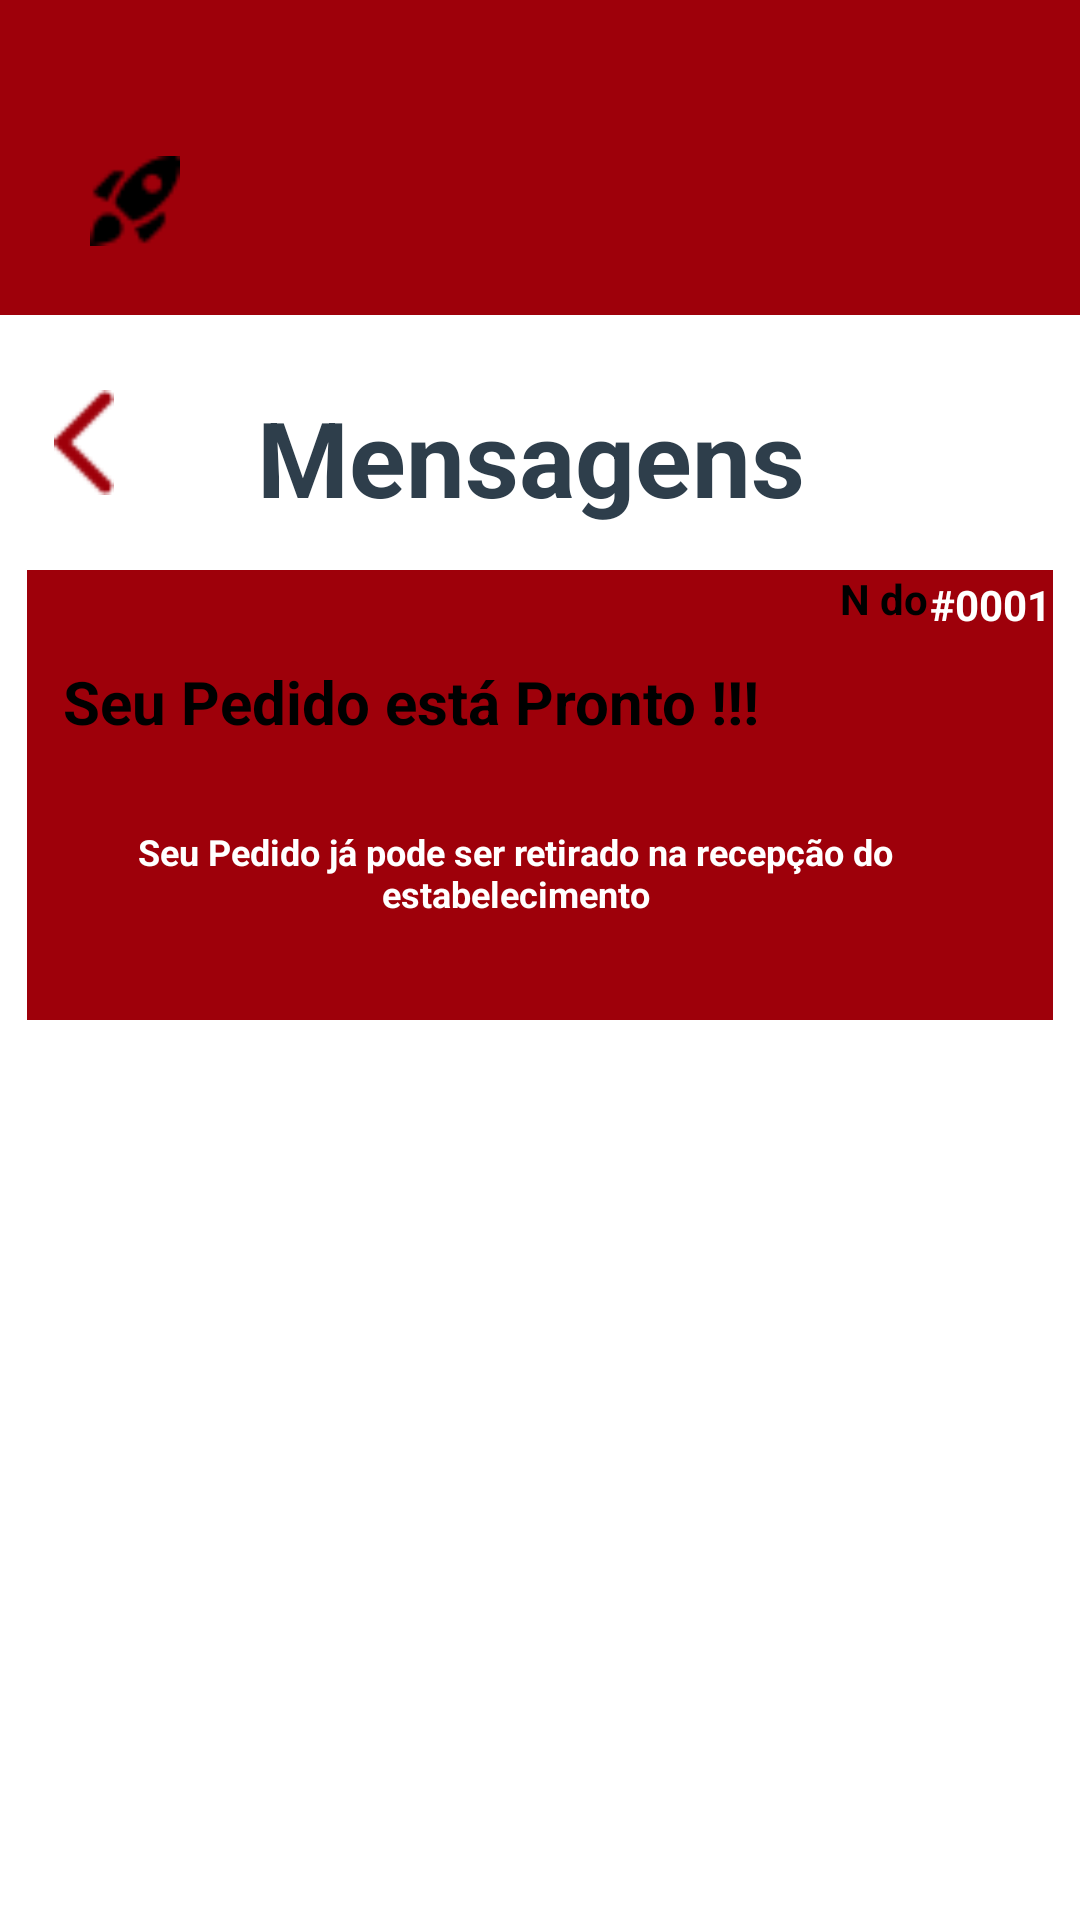

Screen size 1080×1920. Icon name, then its box in pixels as (x1, y1, x2, y2):
rocket: (90, 156, 180, 246)
